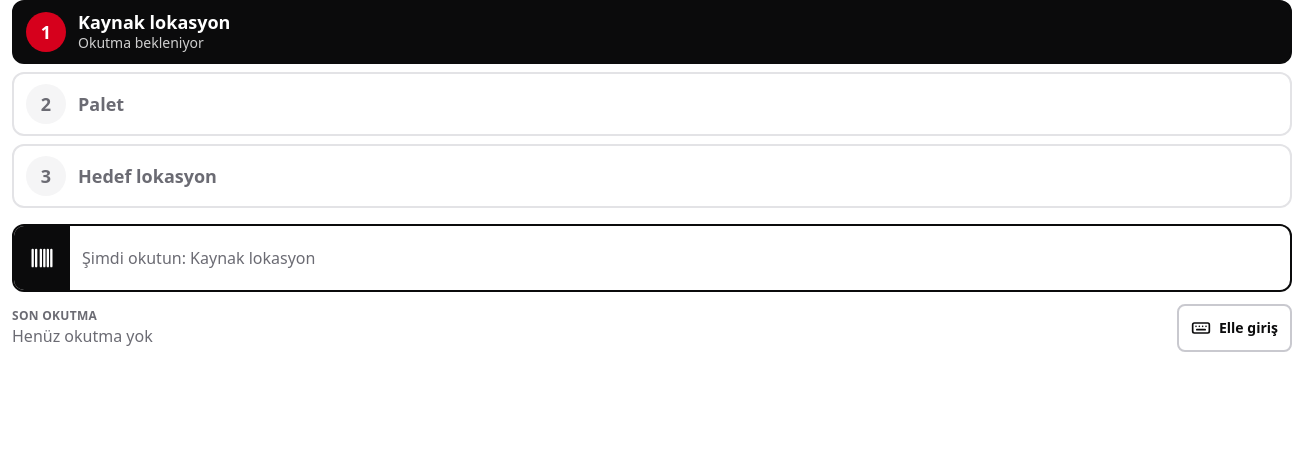
Test: <ScanFlow> › shows which scan is expected and completes after three good scans
Type "TZ-B03-L12" into the field with test id "scan-input" at point(680, 258), box x1=70 y1=226 x2=1290 y2=290
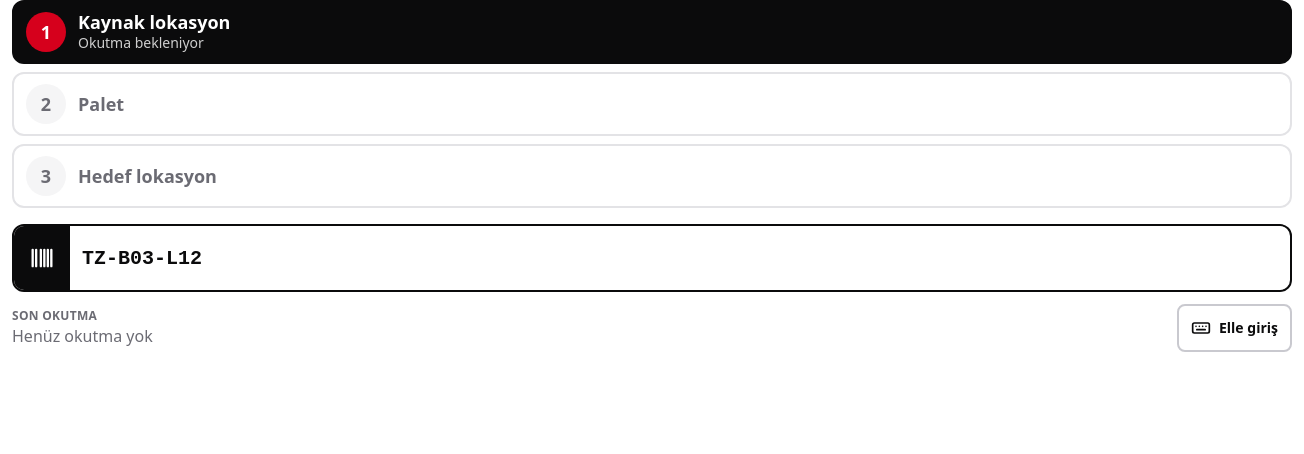
Press Enter in the field with test id "scan-input", box x1=70 y1=226 x2=1290 y2=290
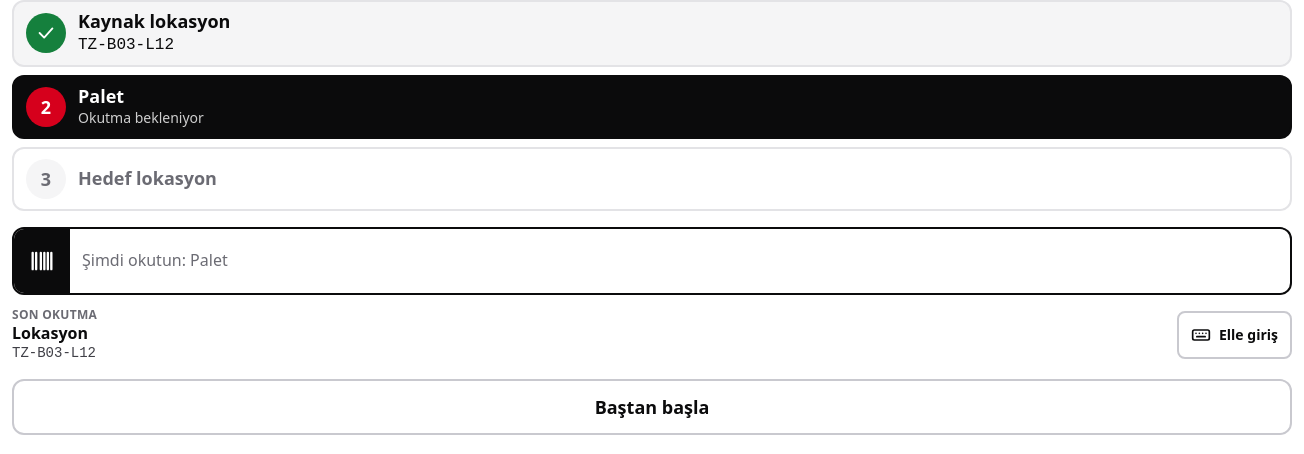
Type "086912340000010011" into the field with test id "scan-input" at point(680, 260), box x1=70 y1=228 x2=1290 y2=292
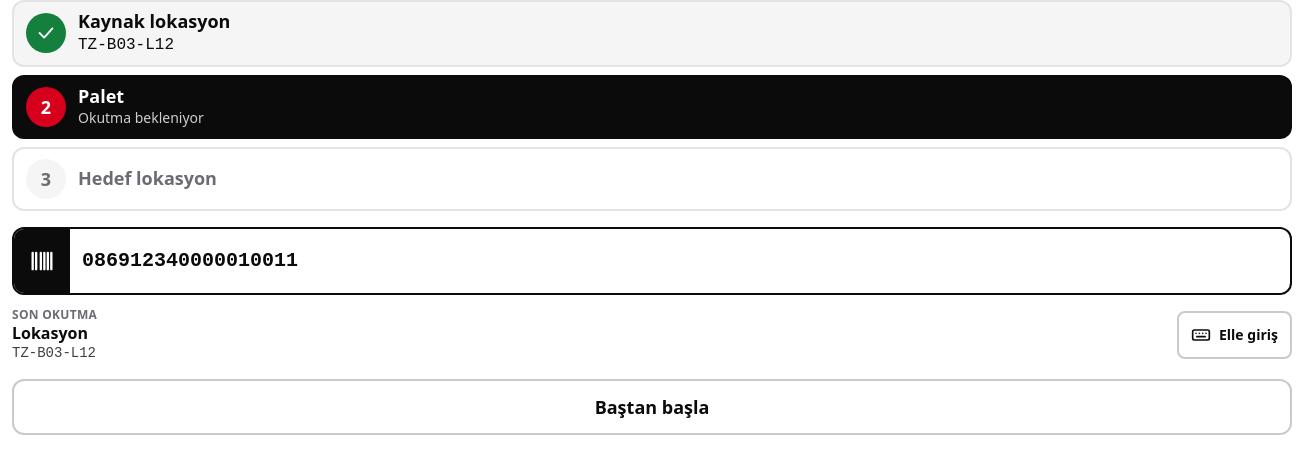
Press Enter in the field with test id "scan-input", box x1=70 y1=228 x2=1290 y2=292
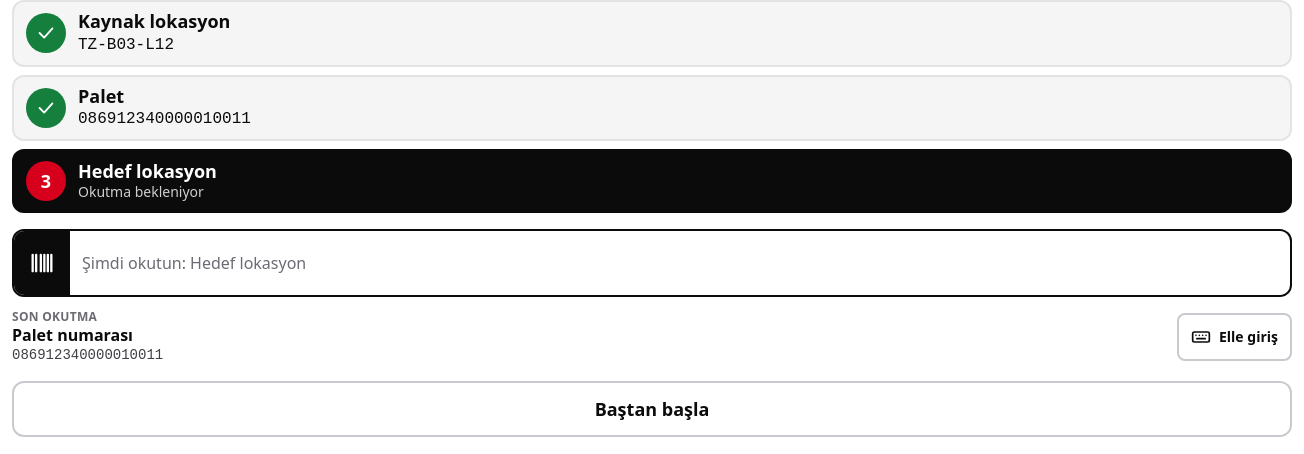
Type "TZ-STG-01" into the field with test id "scan-input" at point(680, 263), box x1=70 y1=231 x2=1290 y2=295
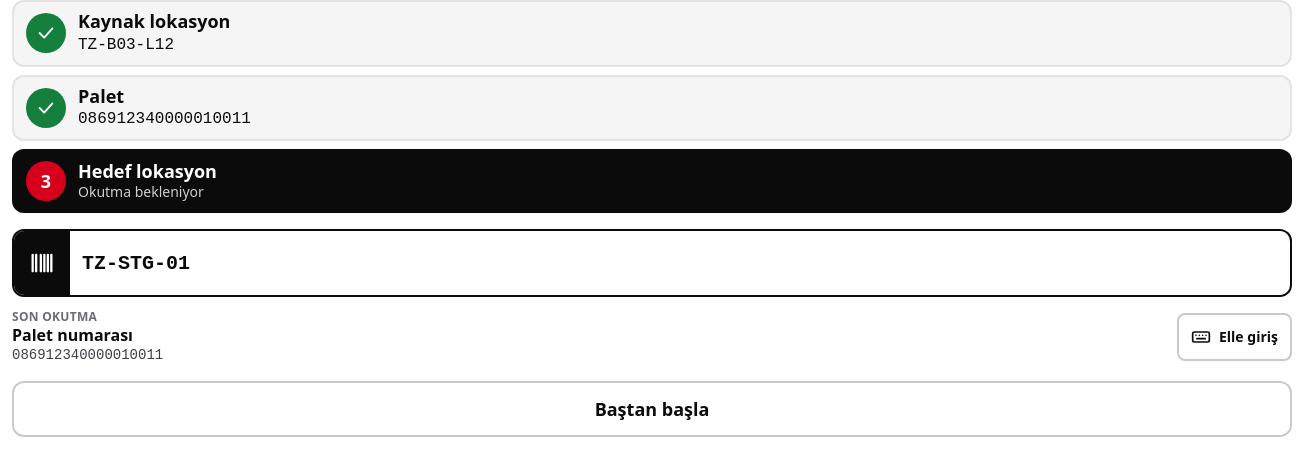
Press Enter in the field with test id "scan-input", box x1=70 y1=231 x2=1290 y2=295
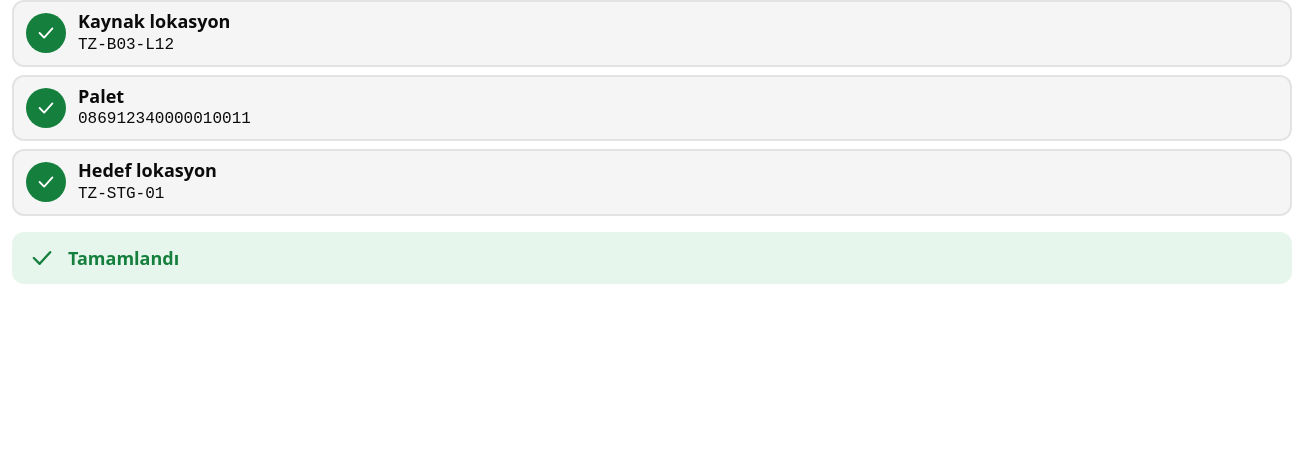
Expected: the message reads "Tamamlandı", x1=68 y1=246 x2=179 y2=270
